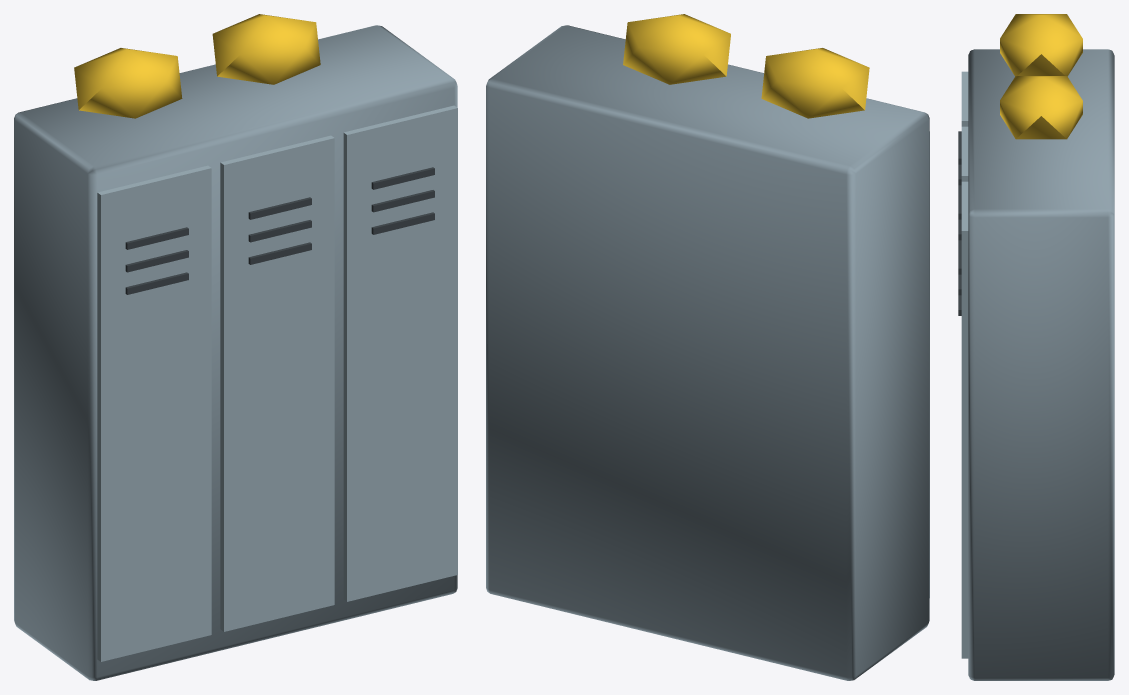
File: v_furn_lockers.glb
3 views of the same model, side by side, from view 1: azimuth 30°, elevation 25°; view 2: azimuth 150°, elevation 25°; view 3: azimuth 270°, elevation 25° (orthographic). The views are drawn at different scales.
Visible parts, largest first — view 1: Lockers; view 2: Lockers; view 3: Lockers.
Boxes of the visible parts, bbox=[...] form: Lockers: bbox=[14, 14, 457, 680]; Lockers: bbox=[486, 14, 929, 680]; Lockers: bbox=[958, 14, 1114, 680].
Size of the model in its own units: 1.2 by 1.83 by 0.48.
